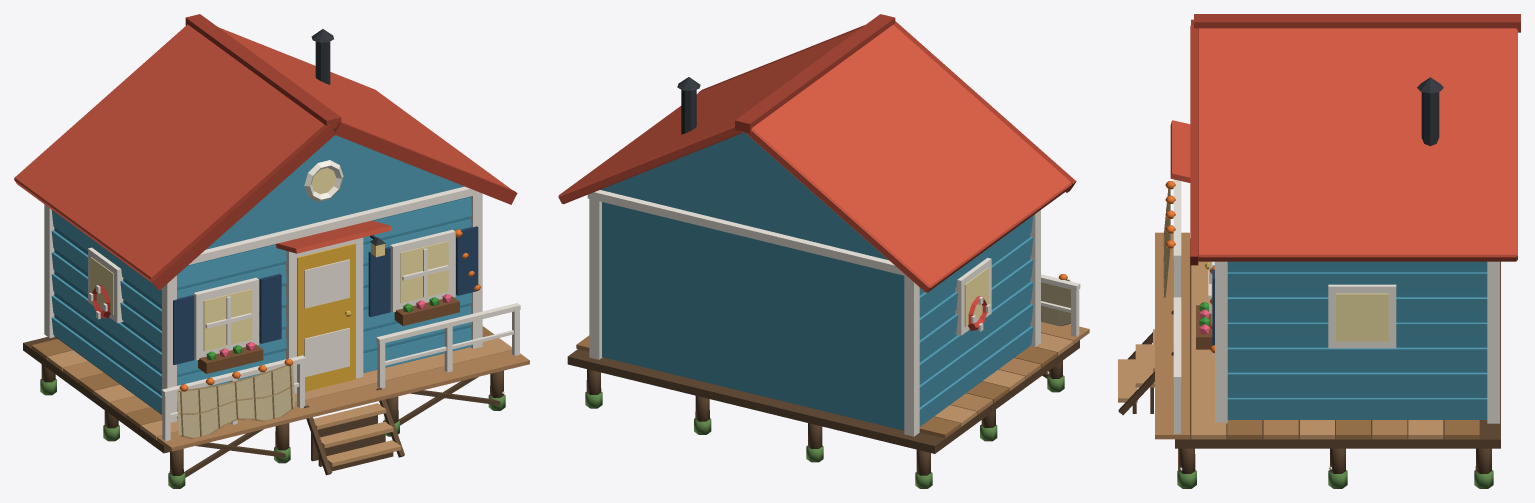
File: harbour_house.glb
3 views of the same model, side by side, from view 1: azimuth 30°, elevation 25°; view 2: azimuth 150°, elevation 25°; view 3: azimuth 270°, elevation 25° (orthographic). The views are drawn at different scales.
Visible parts, largest first — view 1: harbour_house; view 2: harbour_house; view 3: harbour_house.
Boxes of the visible parts, x1,y1,x2,y2 form: harbour_house: (14,14,529,488); harbour_house: (558,14,1089,488); harbour_house: (1118,14,1520,488).
Size of the model in its own units: 5 by 4.28 by 4.14.
